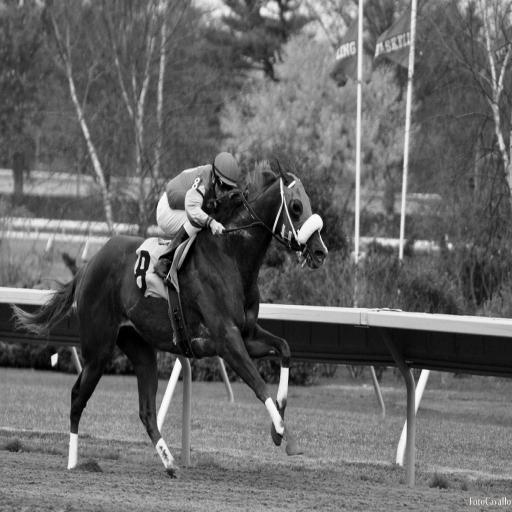horse: (10, 157, 328, 479)
